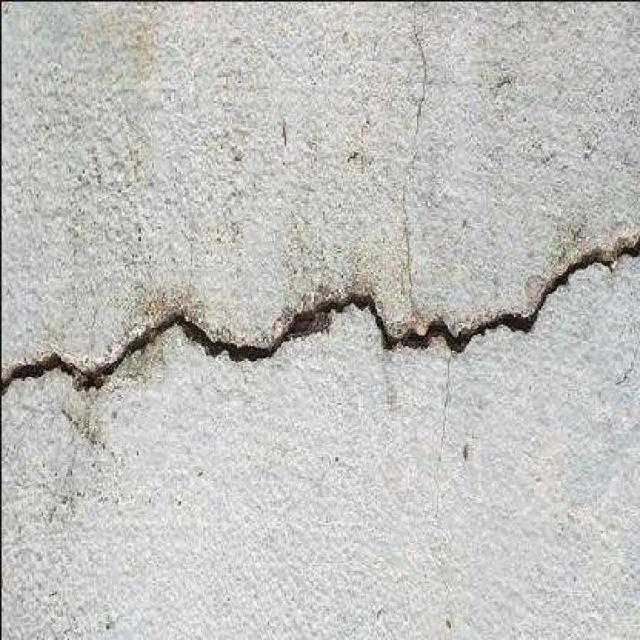D00: (0, 228, 640, 397)
